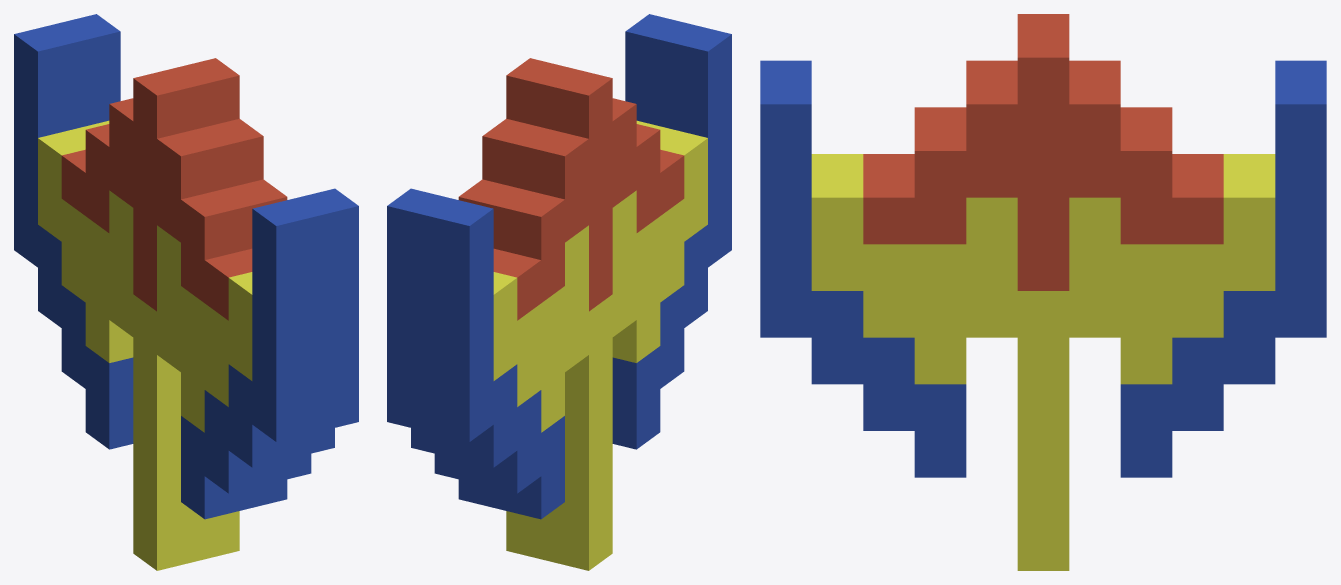
Rendered from Galaxia PacMan.fbx.
3 renders of one model, left to right at view 1: azimuth 30°, elevation 25°; view 2: azimuth 150°, elevation 25°; view 3: azimuth 270°, elevation 25°, orthographic. The views are drawn at different scales.
Parts seen in each view (by area): view 1: polySurface7; view 2: polySurface7; view 3: polySurface7.
Part boxes in pixels (<box>): polySurface7: <box>14,14,358,570</box>; polySurface7: <box>387,14,731,570</box>; polySurface7: <box>760,14,1326,570</box>.
Size of the model in its own units: 0.02 by 0.11 by 0.11.
